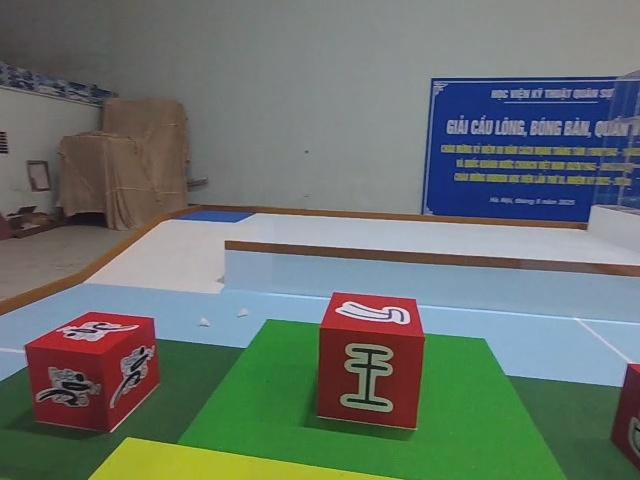R1: (23, 307, 164, 432)
R2 Fake: (314, 289, 428, 432)
